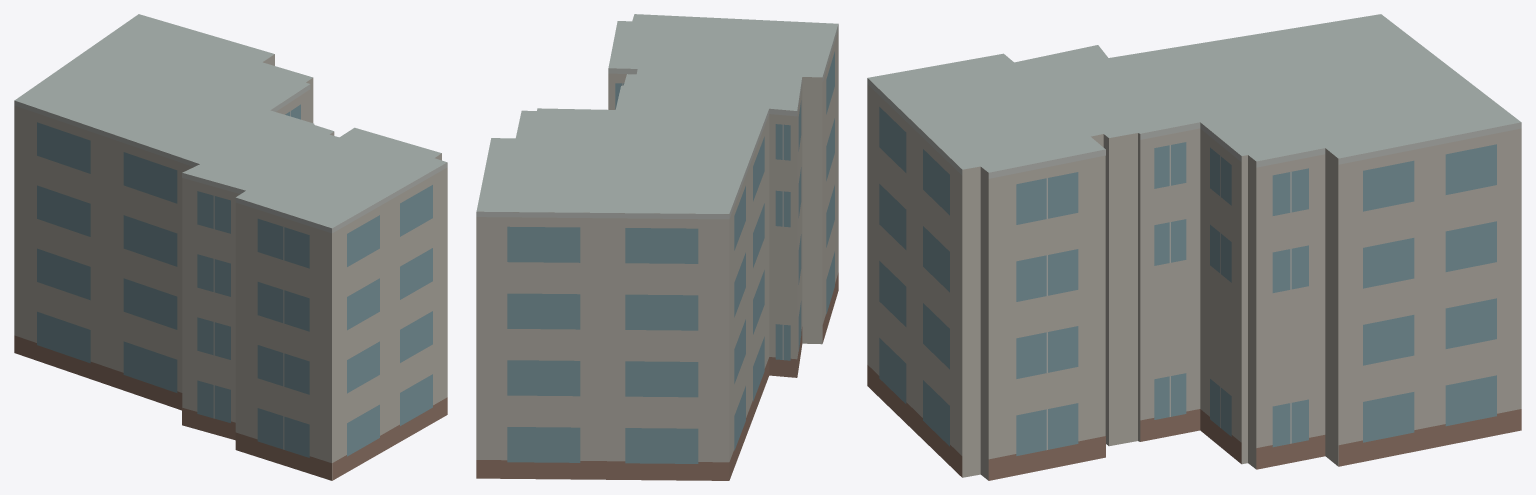
Rendered from survey-upis-32651879.glb.
3 renders of one model, left to right at view 1: azimuth 30°, elevation 25°; view 2: azimuth 150°, elevation 25°; view 3: azimuth 270°, elevation 25°, orthographic. The views are drawn at different scales.
Parts seen in each view (by area): view 1: survey-upis-32651879.tmp; view 2: survey-upis-32651879.tmp; view 3: survey-upis-32651879.tmp.
Boxes of the visible parts, left/top/right/bottom form: survey-upis-32651879.tmp: left=14, top=14, right=447, bottom=480; survey-upis-32651879.tmp: left=476, top=14, right=838, bottom=480; survey-upis-32651879.tmp: left=867, top=14, right=1521, bottom=480.
Size of the model in its own units: 13.49 by 12.2 by 23.48.
